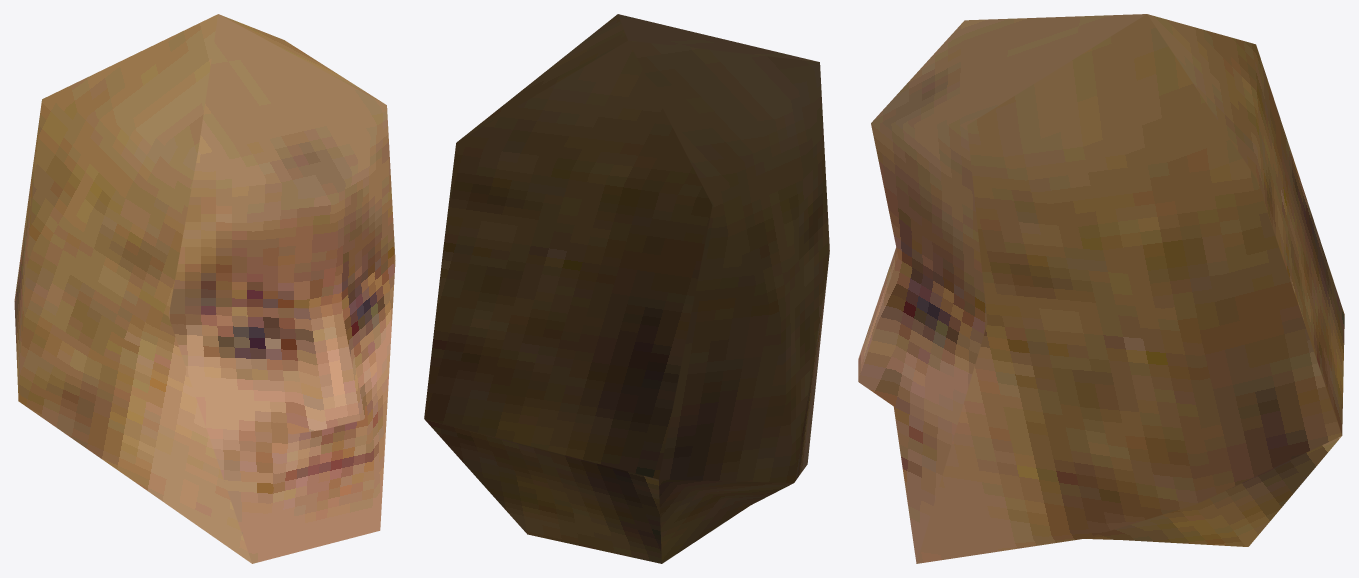
Rendered from CheadmandyZ.obj.
The picture shows the model from 3 angles, left to right: view 1: azimuth 30°, elevation 25°; view 2: azimuth 150°, elevation 25°; view 3: azimuth 270°, elevation 25°; orthographic projection. The views are drawn at different scales.
Bounding box in the file's own units: 175 × 231 × 192.
3 materials, 3 textured.
